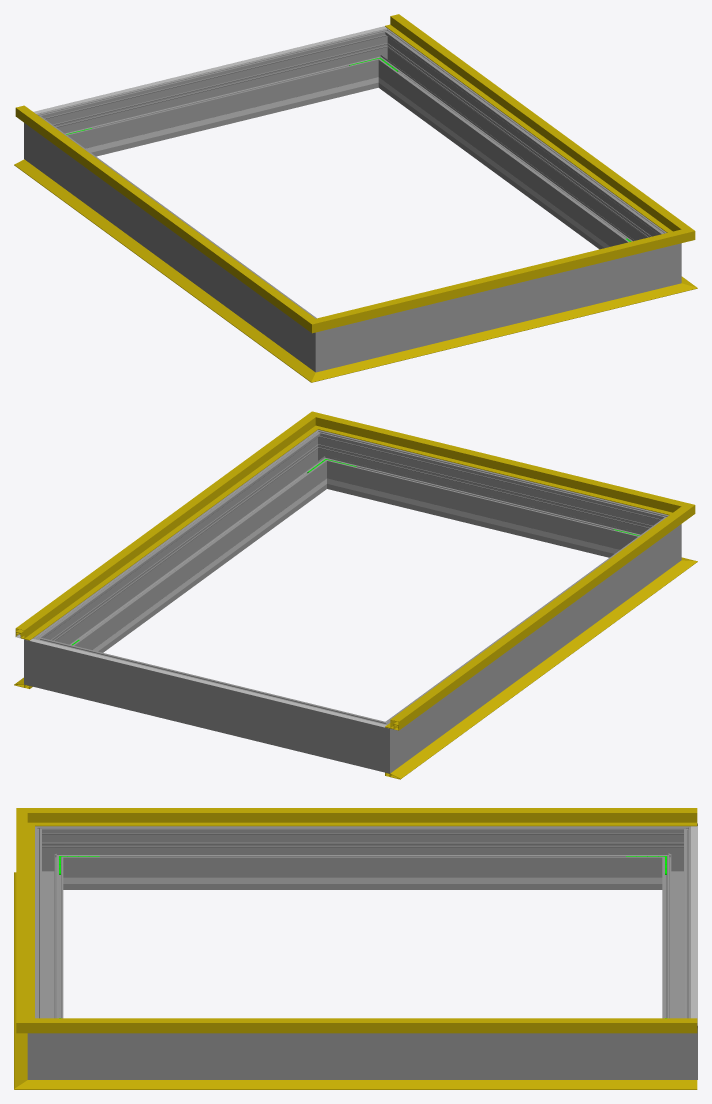
The picture shows the model from 3 angles, top to bottom: view 1: azimuth 30°, elevation 25°; view 2: azimuth 150°, elevation 25°; view 3: azimuth 270°, elevation 25°; orthographic projection. The views are drawn at different scales.
Visible parts, largest first — view 1: 3DGeom-276, 3DGeom-297, 3DGeom-298, 3DGeom-268, 3DGeom-128, 3DGeom-118, 3DGeom-123, 3DGeom-38, 3DGeom-28, 3DGeom-270, 3DGeom-244, 3DGeom-284 (+6 smaller); view 2: 3DGeom-298, 3DGeom-297, 3DGeom-276, 3DGeom-268, 3DGeom-128, 3DGeom-123, 3DGeom-118, 3DGeom-38, 3DGeom-278, 3DGeom-284, 3DGeom-239, 3DGeom-290 (+5 smaller); view 3: 3DGeom-268, 3DGeom-297, 3DGeom-118, 3DGeom-128, 3DGeom-30, 3DGeom-276, 3DGeom-298, 3DGeom-232, 3DGeom-123, 3DGeom-290, 3DGeom-284, 3DGeom-278 (+6 smaller).
Part boxes in pixels (<box>): 3DGeom-276: <box>59,35,373,156</box>; 3DGeom-297: <box>381,40,657,249</box>; 3DGeom-298: <box>348,251,649,364</box>; 3DGeom-268: <box>42,125,307,358</box>; 3DGeom-128: <box>385,14,676,229</box>; 3DGeom-118: <box>15,105,301,319</box>; 3DGeom-123: <box>339,235,662,325</box>; 3DGeom-38: <box>14,159,302,368</box>; 3DGeom-28: <box>338,288,665,374</box>; 3DGeom-270: <box>297,311,347,372</box>; 3DGeom-244: <box>97,85,347,150</box>; 3DGeom-284: <box>360,28,402,89</box>; 3DGeom-298: <box>332,436,646,557</box>; 3DGeom-297: <box>48,441,323,652</box>; 3DGeom-276: <box>56,643,363,765</box>; 3DGeom-268: <box>398,526,662,759</box>; 3DGeom-128: <box>15,425,307,640</box>; 3DGeom-123: <box>336,419,662,511</box>; 3DGeom-118: <box>385,516,676,730</box>; 3DGeom-38: <box>385,569,679,779</box>; 3DGeom-278: <box>357,712,408,773</box>; 3DGeom-284: <box>24,627,61,692</box>; 3DGeom-239: <box>358,486,607,552</box>; 3DGeom-290: <box>302,429,344,490</box>; 3DGeom-268: <box>70,826,655,889</box>; 3DGeom-297: <box>70,1033,655,1079</box>; 3DGeom-118: <box>59,808,697,826</box>; 3DGeom-128: <box>59,1018,697,1033</box>; 3DGeom-30: <box>56,1080,697,1089</box>; 3DGeom-276: <box>662,841,690,1018</box>; 3DGeom-298: <box>35,841,63,1018</box>; 3DGeom-232: <box>104,877,620,883</box>; 3DGeom-123: <box>16,826,34,1014</box>; 3DGeom-290: <box>27,1010,70,1079</box>; 3DGeom-284: <box>655,1010,697,1079</box>; 3DGeom-278: <box>655,823,697,889</box>.
Bounding box in the file's own units: 1.83 × 0.2596 × 2.44.
